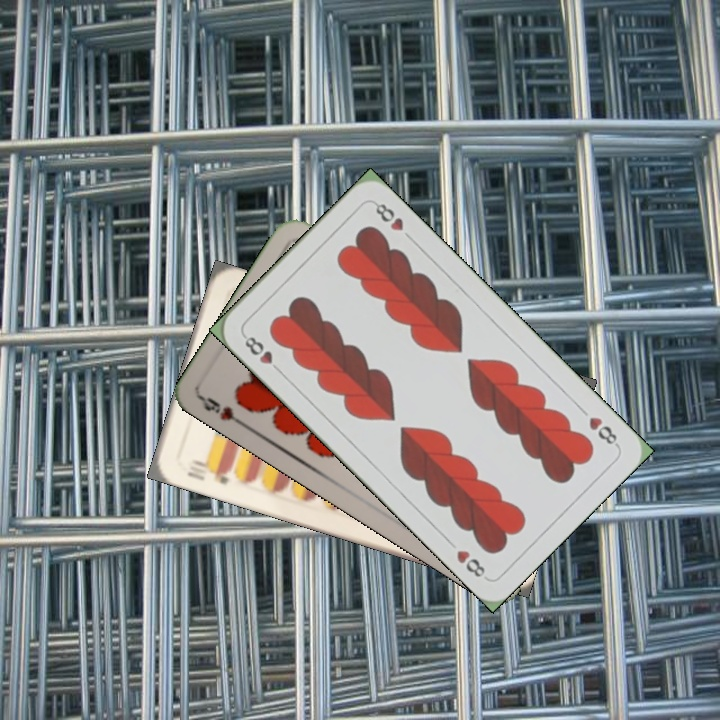E10: (183, 455, 233, 487)
H8: (239, 330, 285, 376), (585, 412, 622, 449)
H9: (196, 392, 250, 431)
